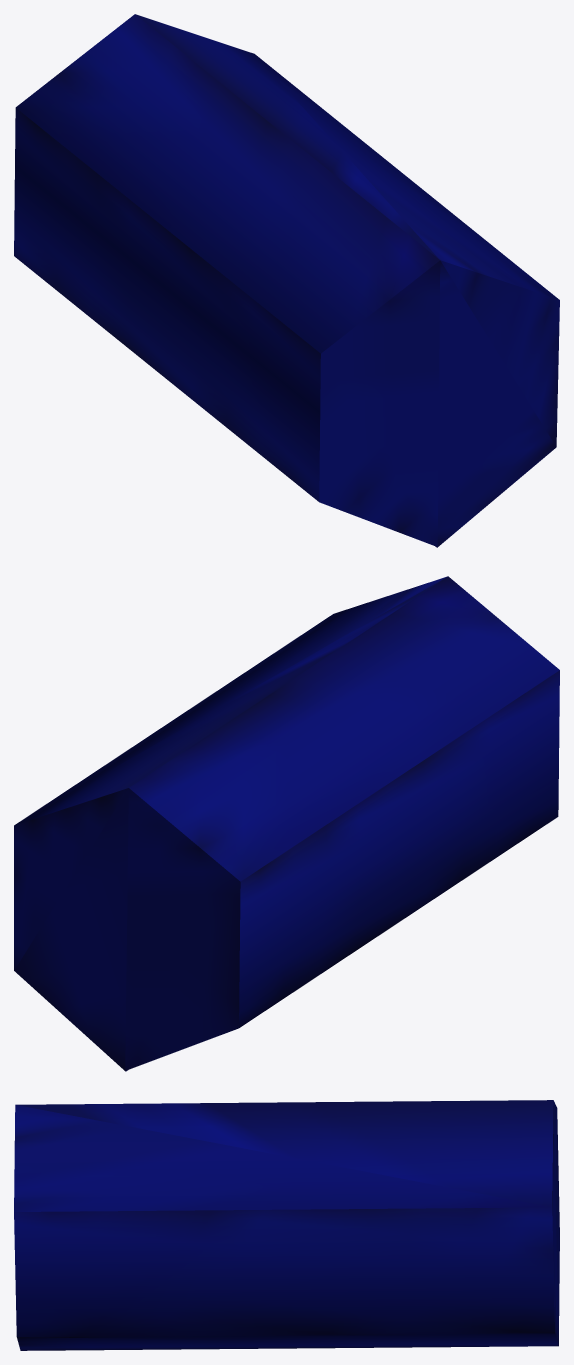
Rendered from Hexagonal prism.fbx.
3 renders of one model, top to bottom at view 1: azimuth 30°, elevation 25°; view 2: azimuth 150°, elevation 25°; view 3: azimuth 270°, elevation 25°, orthographic. The views are drawn at different scales.
Visible parts, largest first — view 1: node_id36; view 2: node_id36; view 3: node_id36.
Part boxes in pixels (bbox=[...]): node_id36: bbox=[14, 14, 559, 547]; node_id36: bbox=[14, 576, 559, 1071]; node_id36: bbox=[14, 1100, 559, 1350].
Size of the model in its own units: 0.3267 by 0.3791 by 0.7338.
Materials: 1 (1 with a texture image).
